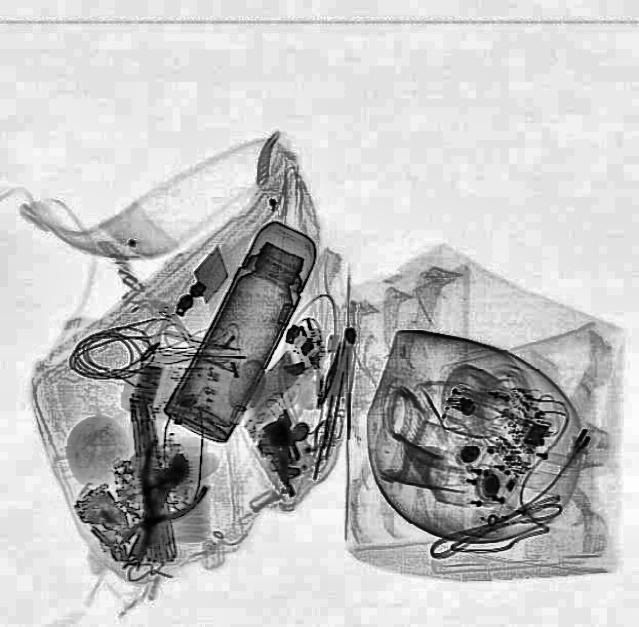Pliers: (88, 436, 220, 572)
